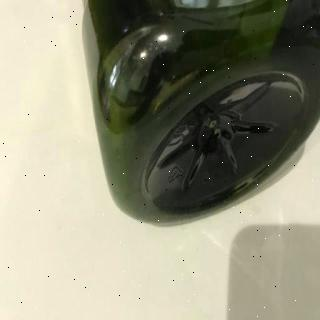Plastic-bottle: (80, 1, 320, 227)
